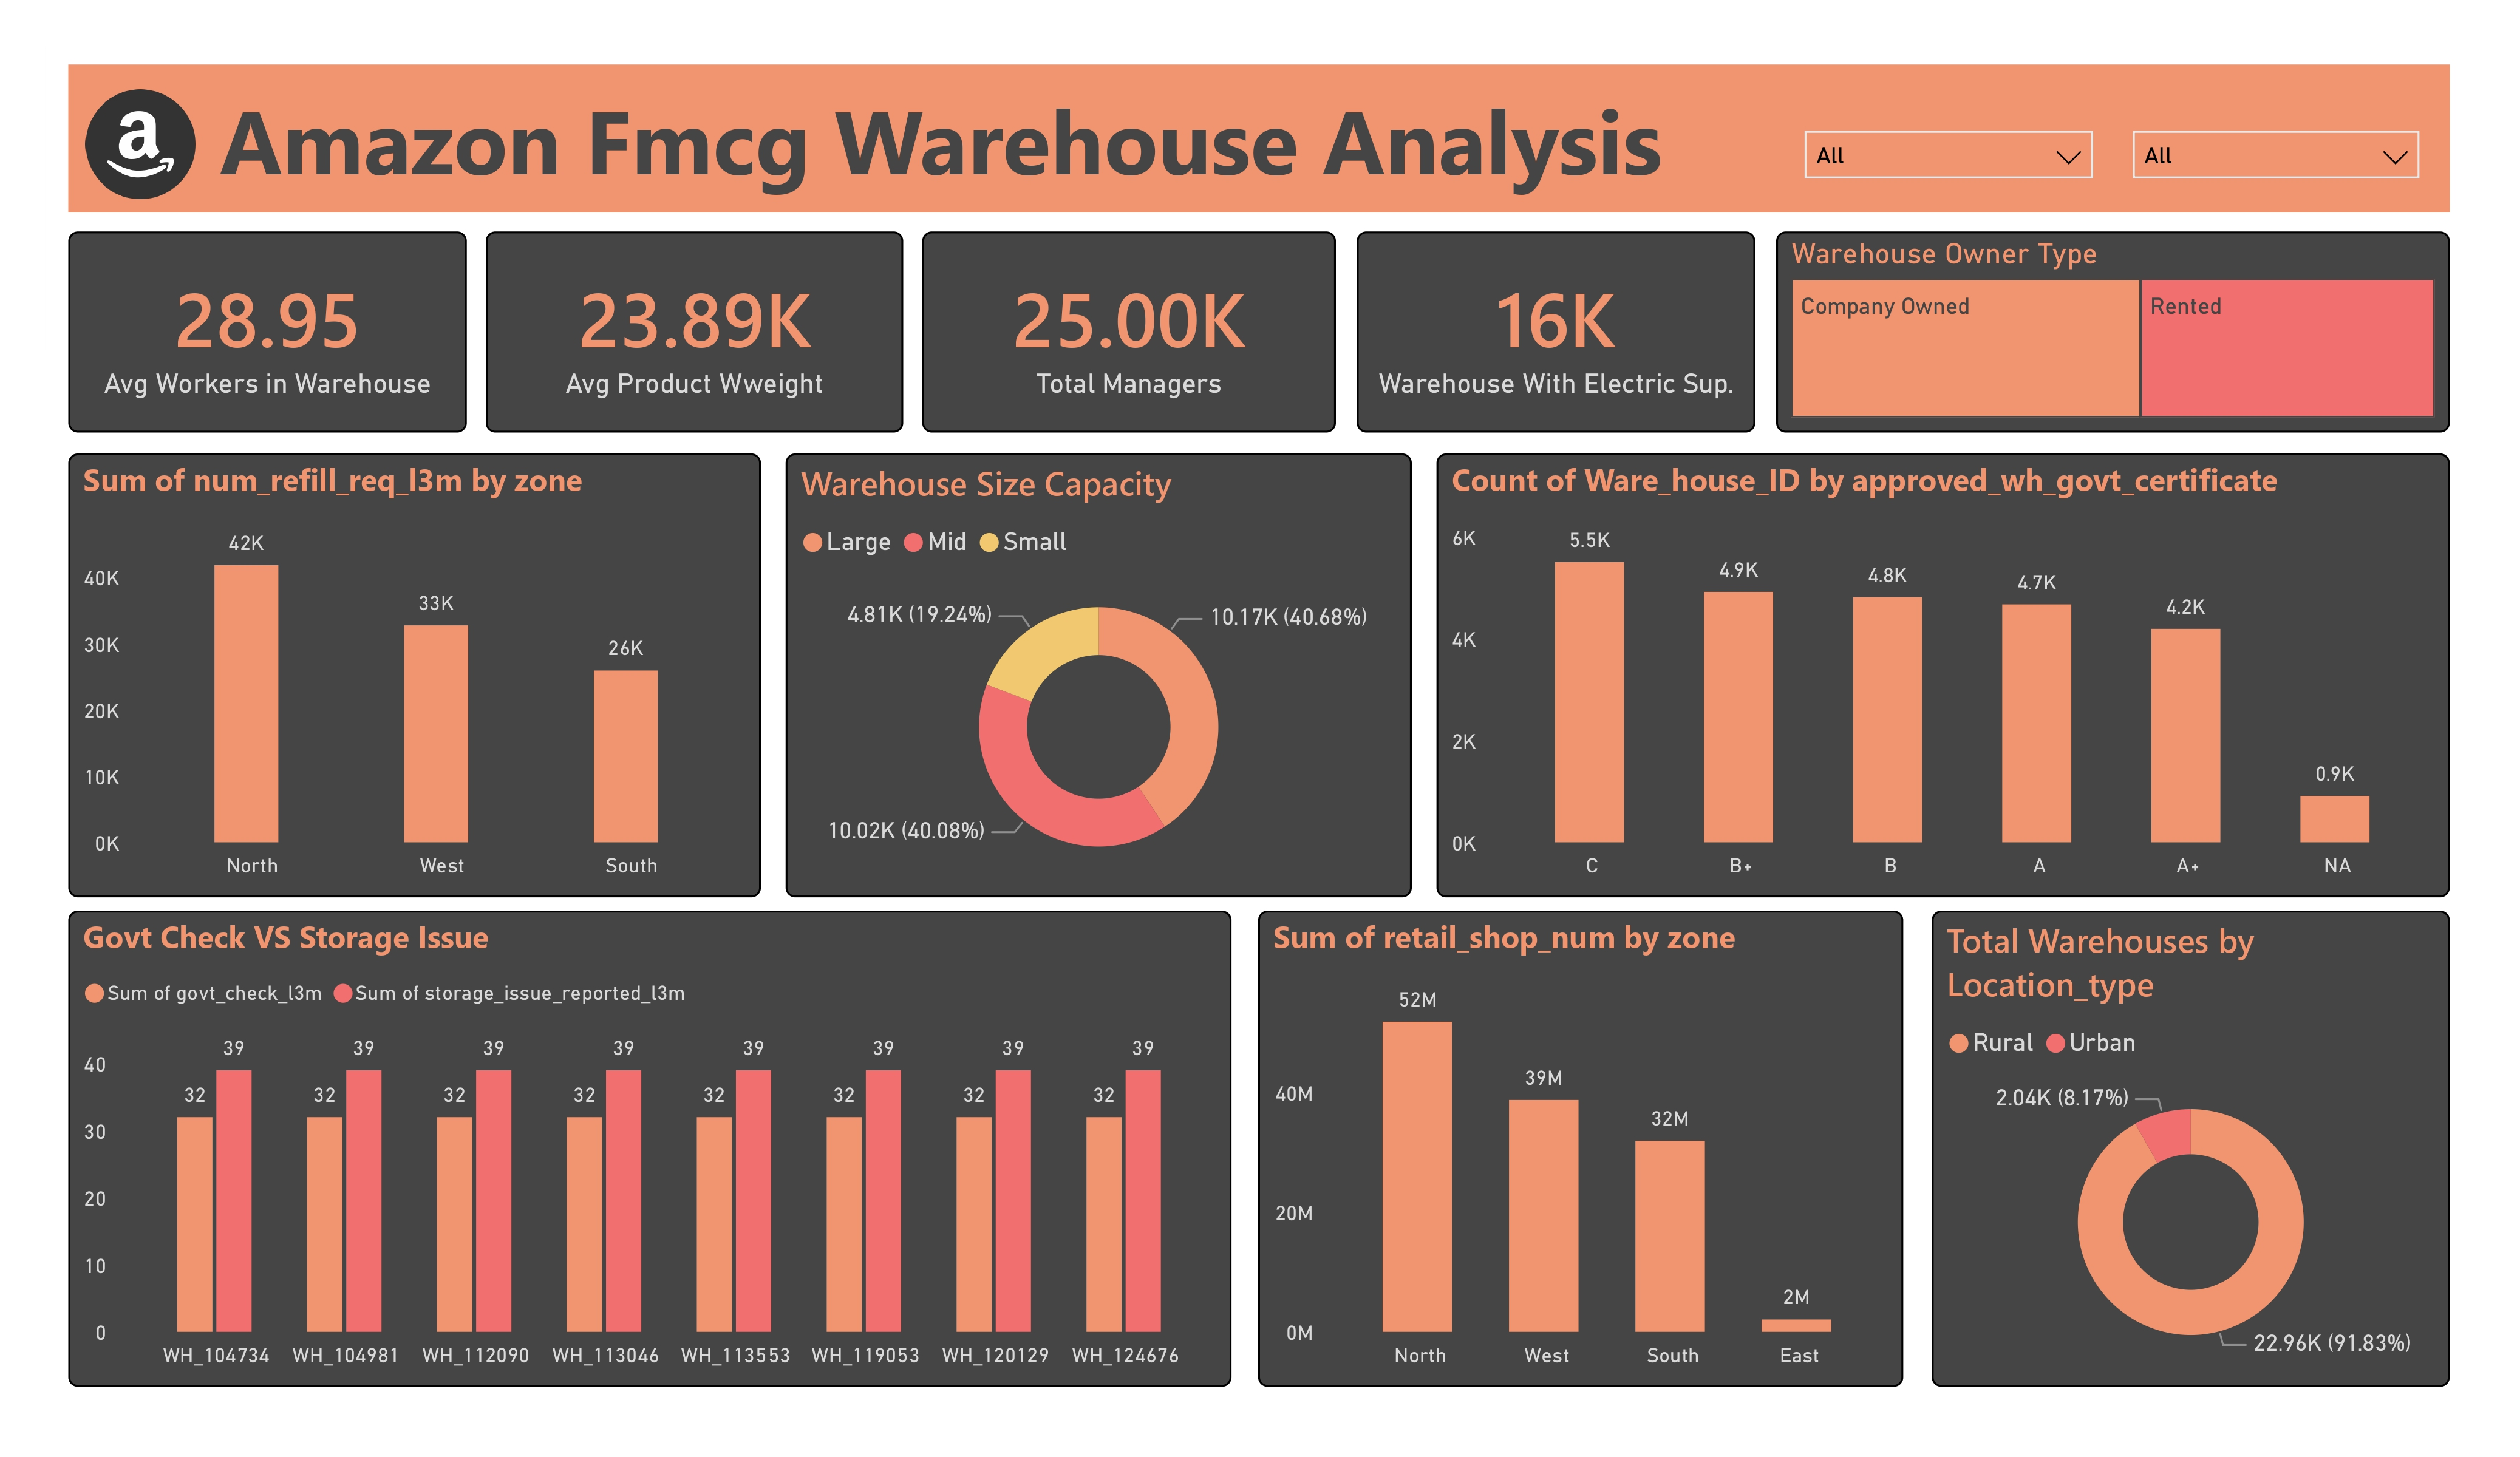

The dashboard page shown, as its layout file describes it:
{"tool":"powerbi","page":{"name":"Dashboarrd","canvas":[1280,720],"ordinal":0},"visuals":[{"type":"donutChart","title":"Warehouse Size Capacity","fields":{"Category":["FMCG_data.WH_capacity_size"],"Y":["CountNonNull(FMCG_data.WH_capacity_size)"]},"box":[390.2,214.6,329.8,234.7],"z":0},{"type":"donutChart","title":"Total Warehouses by Location_type","fields":{"Category":["FMCG_data.Location_type"],"Y":["CountNonNull(FMCG_data.Ware_house_ID)"]},"box":[993.6,456.5,273.6,250.6],"z":1000},{"type":"columnChart","fields":{"Category":["FMCG_data.zone"],"Y":["Sum(FMCG_data.retail_shop_num)"]},"box":[639.4,456.5,339.8,250.6],"z":2000},{"type":"columnChart","fields":{"Category":["FMCG_data.zone"],"Y":["Sum(FMCG_data.num_refill_req_l3m)"]},"box":[11.5,214.6,365.8,234.7],"z":3000},{"type":"columnChart","fields":{"Category":["FMCG_data.approved_wh_govt_certificate"],"Y":["CountNonNull(FMCG_data.Ware_house_ID)"]},"box":[733,214.6,534.2,234.7],"z":4000},{"type":"clusteredColumnChart","title":"Govt Check VS Storage Issue","fields":{"Category":["FMCG_data.Ware_house_ID"],"Y":["Sum(FMCG_data.govt_check_l3m)","Sum(FMCG_data.storage_issue_reported_l3m)"]},"box":[11.5,456.5,613.4,250.6],"z":5000},{"type":"card","fields":{"Values":["Avg(FMCG_data.workers_num)"]},"box":[11.5,97.9,210.2,106.6],"z":6000},{"type":"card","fields":{"Values":["Measure.AVgproductWeight_where_temp_machine"]},"box":[231.8,97.9,220.3,106.6],"z":7000},{"type":"card","fields":{"Values":["CountNonNull(FMCG_data.WH_Manager_ID)"]},"box":[462.2,97.9,217.4,106.6],"z":8000},{"type":"card","fields":{"Values":["Sum(FMCG_data.electric_supply)"]},"box":[691.2,97.9,210.2,106.6],"z":9000},{"type":"shape","box":[11.5,10.1,1255.7,77.8],"z":10000},{"type":"image","box":[15.8,15.8,67.7,72],"z":11000},{"type":"treemap","title":"Warehouse Owner Type","fields":{"Group":["FMCG_data.wh_owner_type"],"Values":["CountNonNull(FMCG_data.electric_supply)"]},"box":[911.5,97.9,355.7,106.6],"z":12000},{"type":"slicer","fields":{"Values":["FMCG_data.zone"]},"box":[1090.1,34.6,171.4,63.4],"z":13000},{"type":"slicer","fields":{"Values":["FMCG_data.zone"]},"box":[917.3,34.6,171.4,63.4],"z":13001}]}

Visuals, with their boxes in screenshot pixels (x1, y1, x2, y2):
"Warehouse Size Capacity" donutChart: box(786, 453, 1412, 898)
"Total Warehouses by Location_type" donutChart: box(1931, 912, 2450, 1387)
columnChart - FMCG_data.zone x Sum(FMCG_data.retail_shop_num): box(1259, 912, 1904, 1387)
columnChart - FMCG_data.zone x Sum(FMCG_data.num_refill_req_l3m): box(67, 453, 761, 898)
columnChart - FMCG_data.approved_wh_govt_certificate x CountNonNull(FMCG_data.Ware_house_ID): box(1437, 453, 2450, 898)
"Govt Check VS Storage Issue" clusteredColumnChart: box(67, 912, 1231, 1387)
card - Avg(FMCG_data.workers_num): box(67, 231, 466, 433)
card - Measure.AVgproductWeight_where_temp_machine: box(485, 231, 904, 433)
card - CountNonNull(FMCG_data.WH_Manager_ID): box(922, 231, 1335, 433)
card - Sum(FMCG_data.electric_supply): box(1357, 231, 1756, 433)
shape: box(67, 65, 2450, 212)
image: box(75, 75, 204, 212)
"Warehouse Owner Type" treemap: box(1775, 231, 2450, 433)
slicer - FMCG_data.zone: box(2114, 111, 2439, 231)
slicer - FMCG_data.zone: box(1786, 111, 2111, 231)
